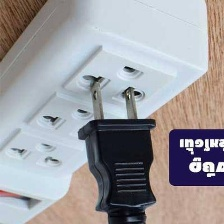three_eye_plug: (0, 0, 214, 224)
